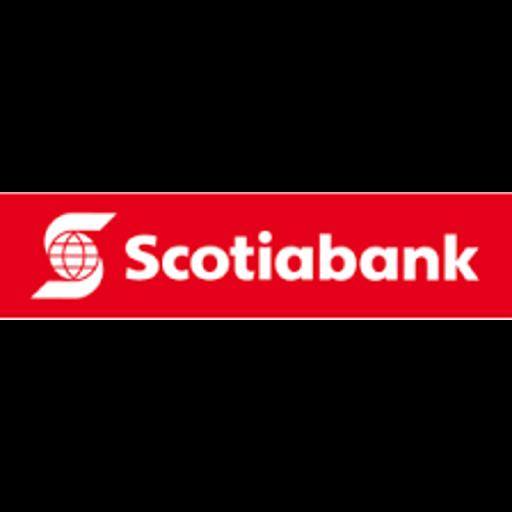Scotiabank: (0, 192, 512, 320)
